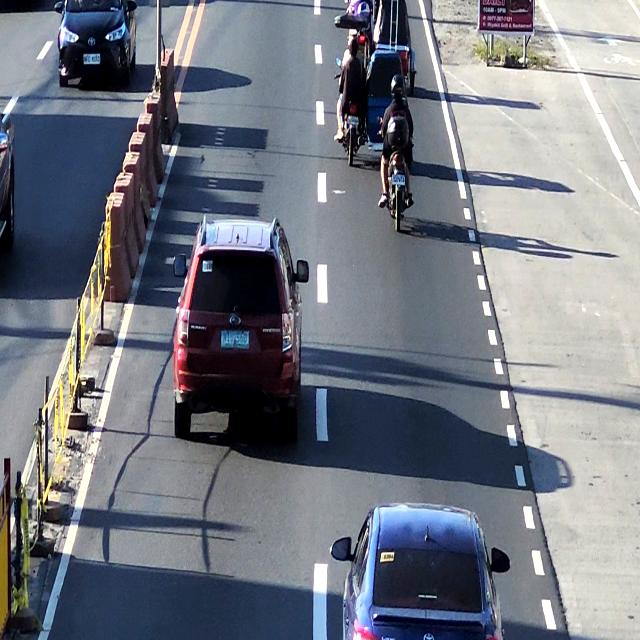Car: (174, 223, 299, 440), (331, 502, 510, 640)
License-Plate: (220, 327, 251, 350), (389, 172, 406, 186)
Motorcycle: (386, 76, 414, 231)
Tricycle: (332, 17, 384, 160)
